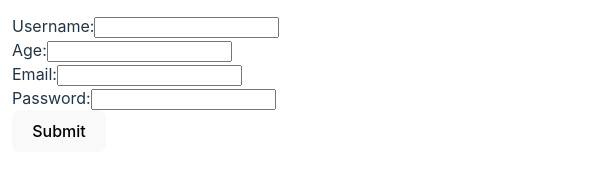
Test case: <SignupForm/> › submitting the form with empty fields displays an error to the user
The width and height of the screenshot is (590, 169).
Step 1. Click the button "Submit" → (59, 131), box [12,110,106,152]
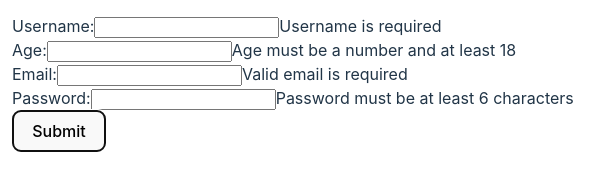
Expected: the text "Username is required" is shown, [279,16,442,36]
Expected: the text "Age must be a number and at least 18" is shown, [232,40,516,60]
Expected: the text "Valid email is required" is shown, [242,64,408,84]
